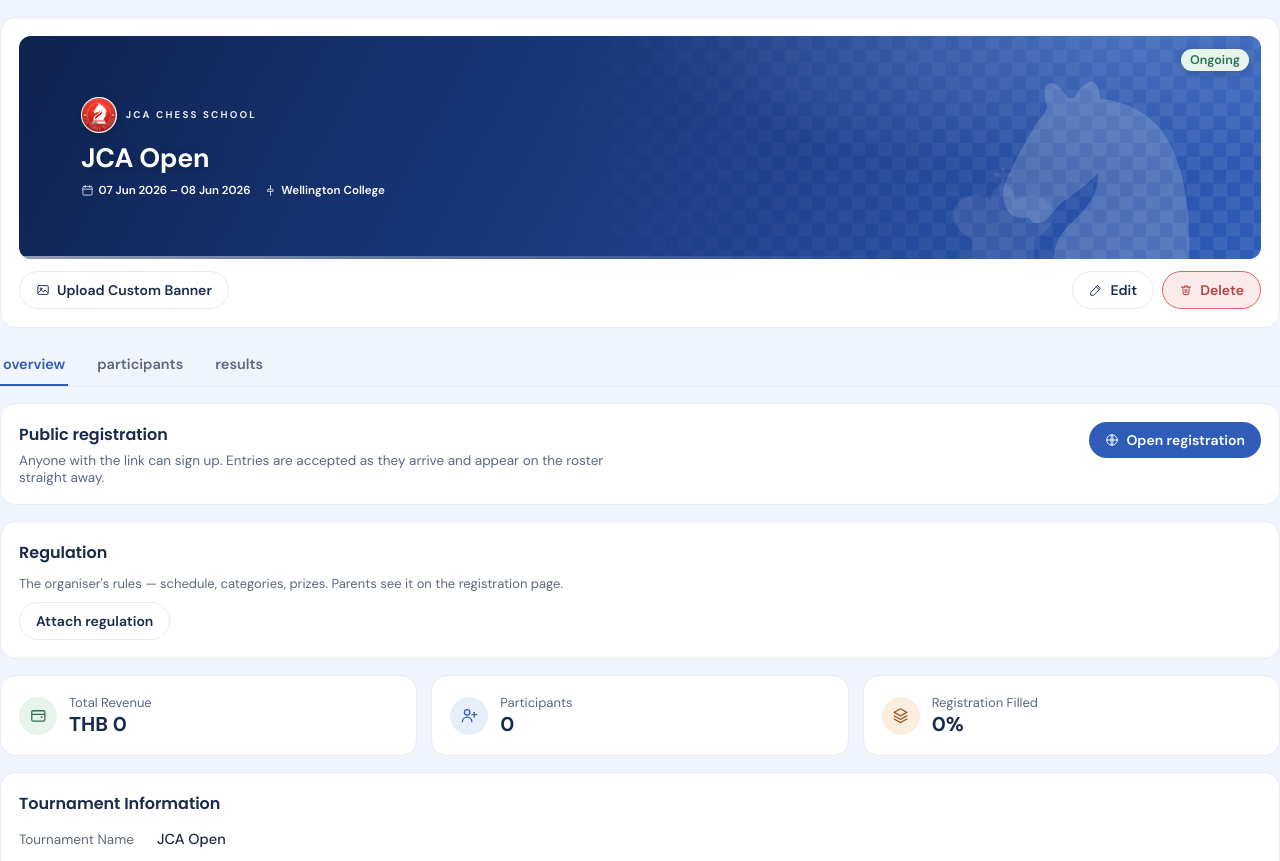
Scenario: removing an age group with entrants › asks before taking it off, and says what happens to them
Click the button "Edit" at coordinates (1113, 290), box [1072, 271, 1154, 309]
(page scrolled)
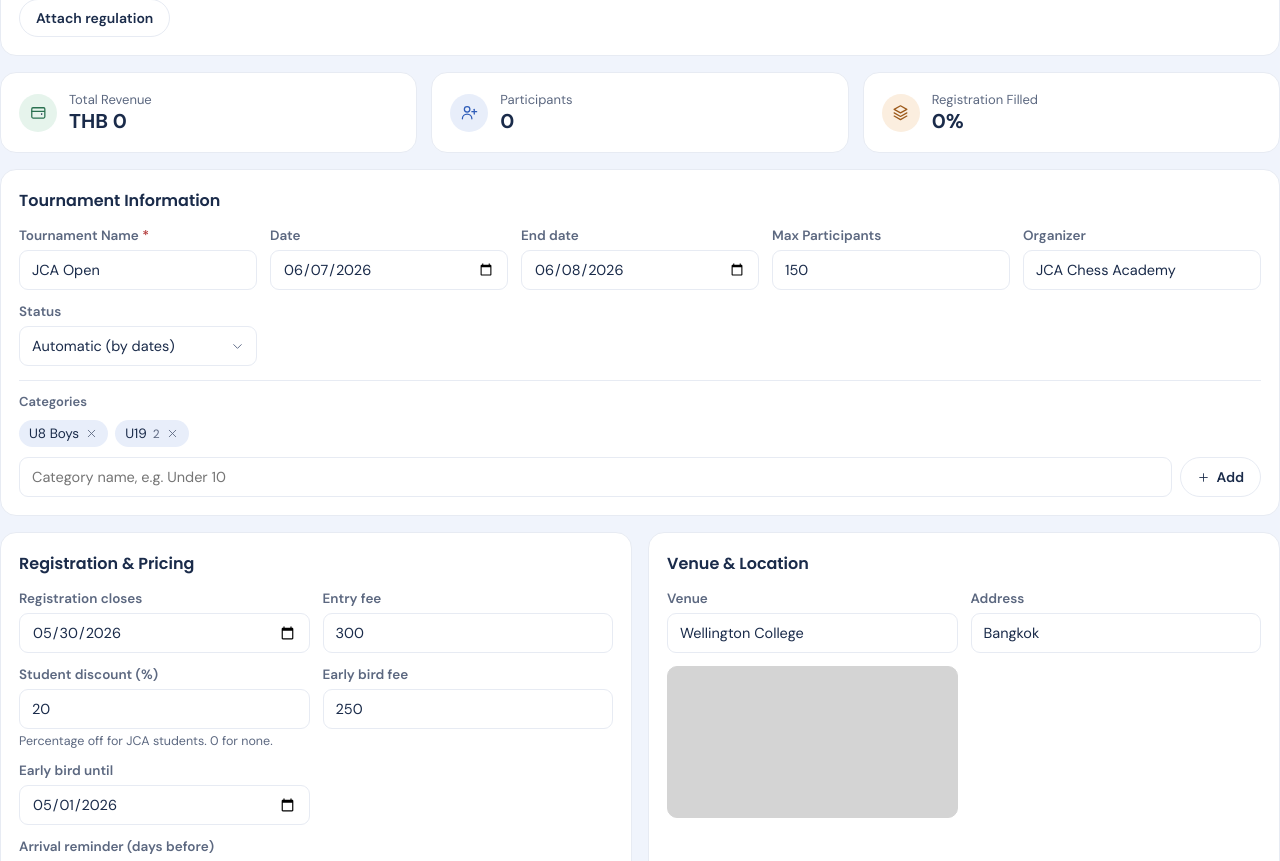
Click the button named "Delete U19" at coordinates (172, 434), box [166, 427, 179, 440]
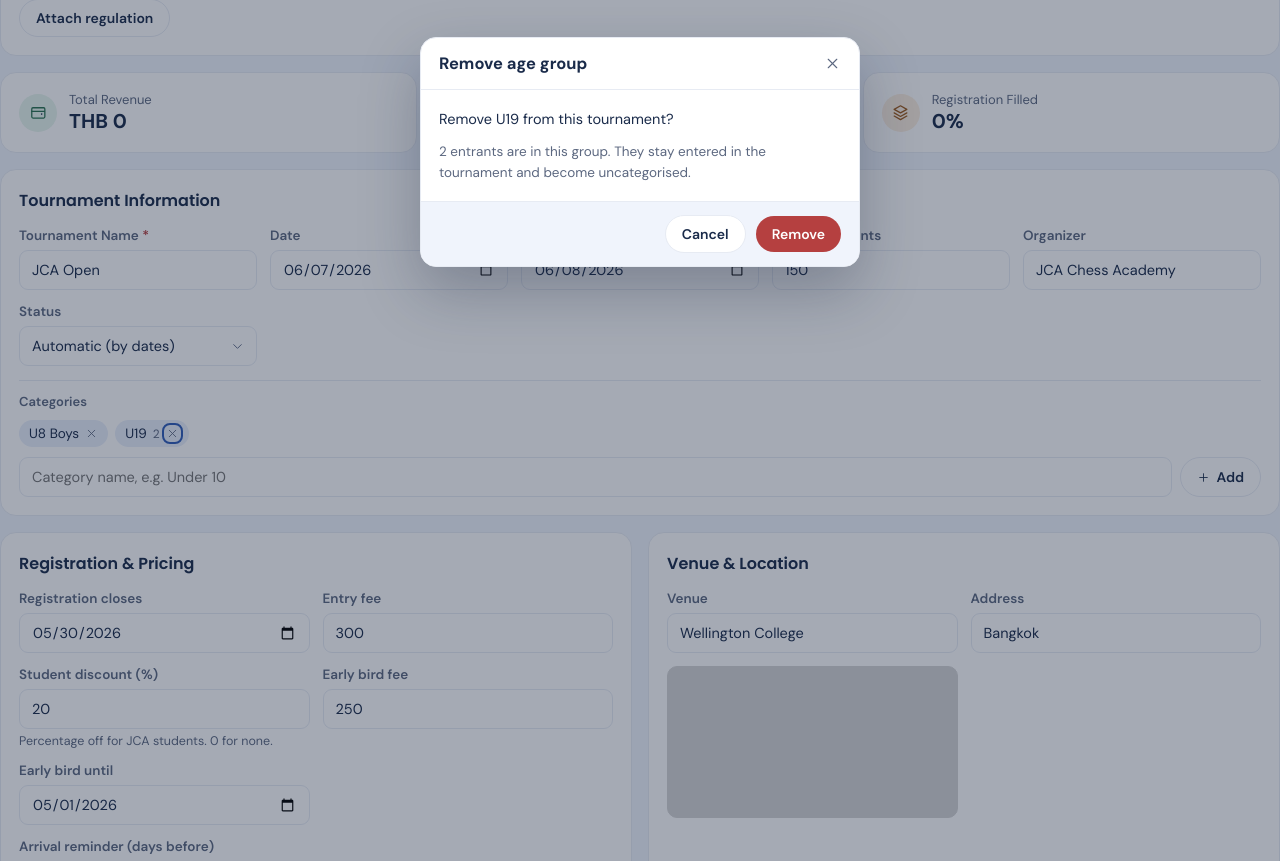
Result: the dialog is shown at [420, 37, 860, 267]
Result: the text "stay entered in the tournament" is shown at [439, 144, 766, 181]
